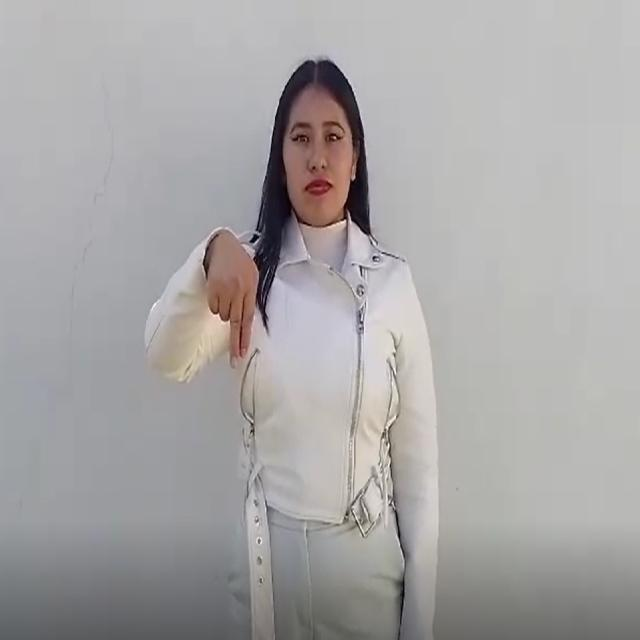N: (190, 203, 266, 377)
